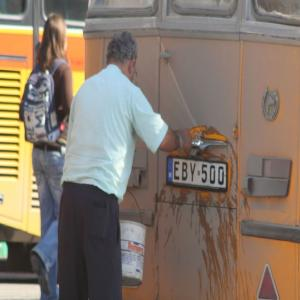Vehicle-registration-plate: (170, 154, 229, 200)
